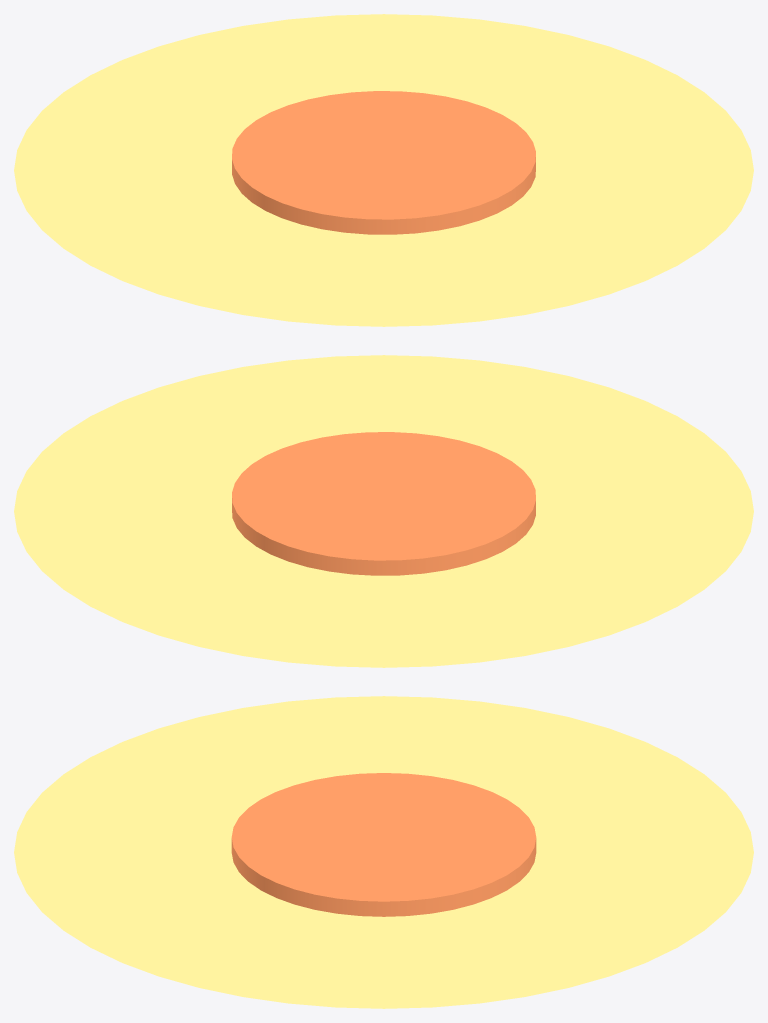
File: pad-ff5722.glb
3 views of the same model, one above another, from view 1: azimuth 30°, elevation 25°; view 2: azimuth 150°, elevation 25°; view 3: azimuth 270°, elevation 25° (orthographic).
Visible parts, largest first — view 1: plat; view 2: plat; view 3: plat.
Part boxes in pixels (x1=…): plat: x1=14, y1=14, x2=753, y2=326; plat: x1=14, y1=355, x2=753, y2=667; plat: x1=14, y1=696, x2=753, y2=1008.
Bounding box in the file's own units: 3.4 × 0.08 × 3.4.
Materials: 2 (2 with a texture image).
